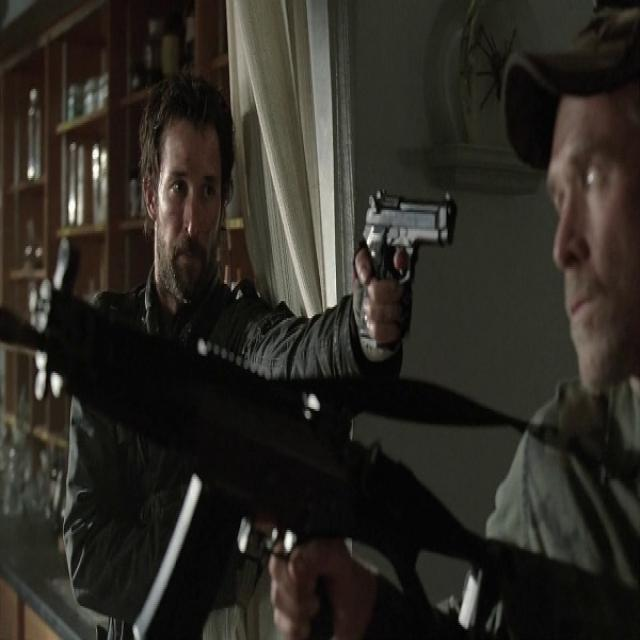weapons: (16, 261, 470, 624), (343, 156, 453, 355)
